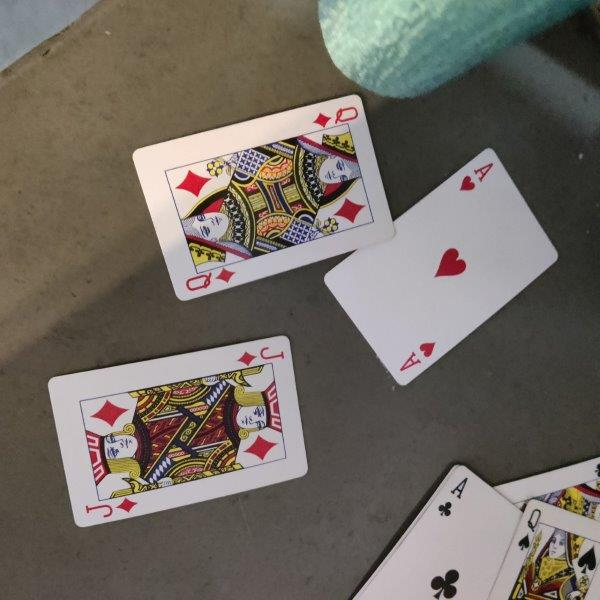Ace of Clubs: (353, 465, 523, 600)
Ace of Hearts: (324, 147, 558, 389)
Jack of Diamonds: (46, 337, 310, 527)
Queen of Diamonds: (132, 93, 396, 303)
Queen of Spades: (490, 499, 600, 600)
